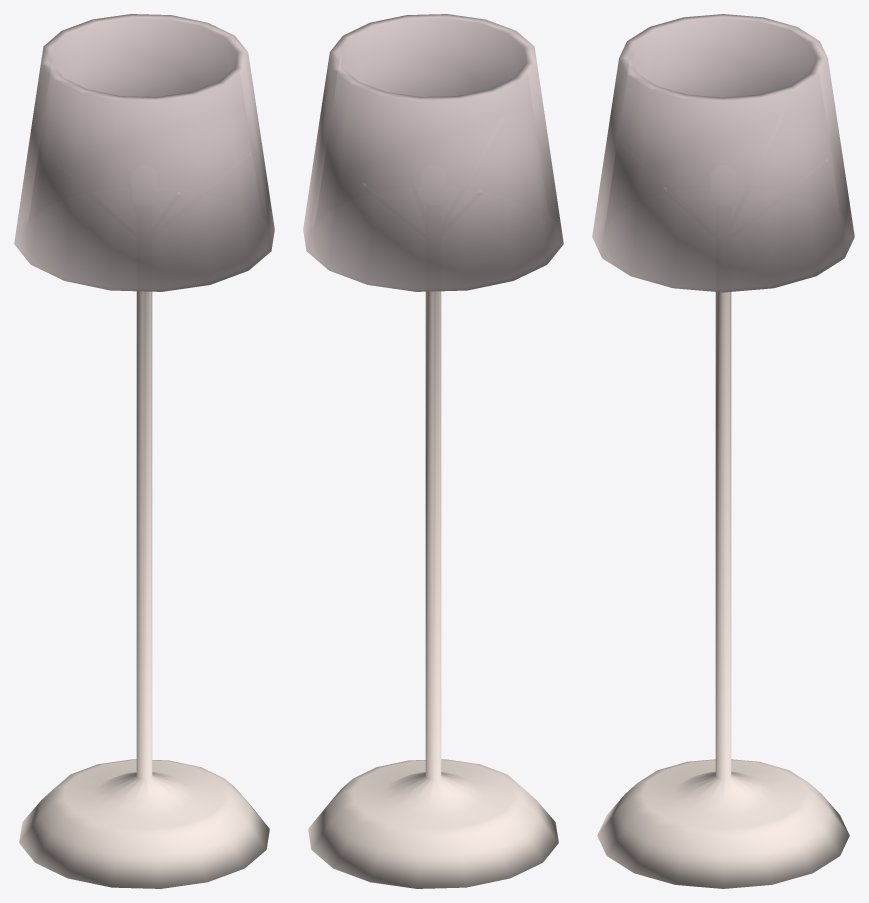
Rendered from white tall lamp.fbx.
3 renders of one model, left to right at view 1: azimuth 30°, elevation 25°; view 2: azimuth 150°, elevation 25°; view 3: azimuth 270°, elevation 25°, orthographic.
Parts seen in each view (by area): view 1: Cylinder; view 2: Cylinder; view 3: Cylinder.
Boxes of the visible parts, <box> form: Cylinder: <box>14,14,274,888</box>; Cylinder: <box>303,14,563,888</box>; Cylinder: <box>592,14,854,888</box>.
Bounding box in the file's own units: 59.31 × 194 × 59.31.
